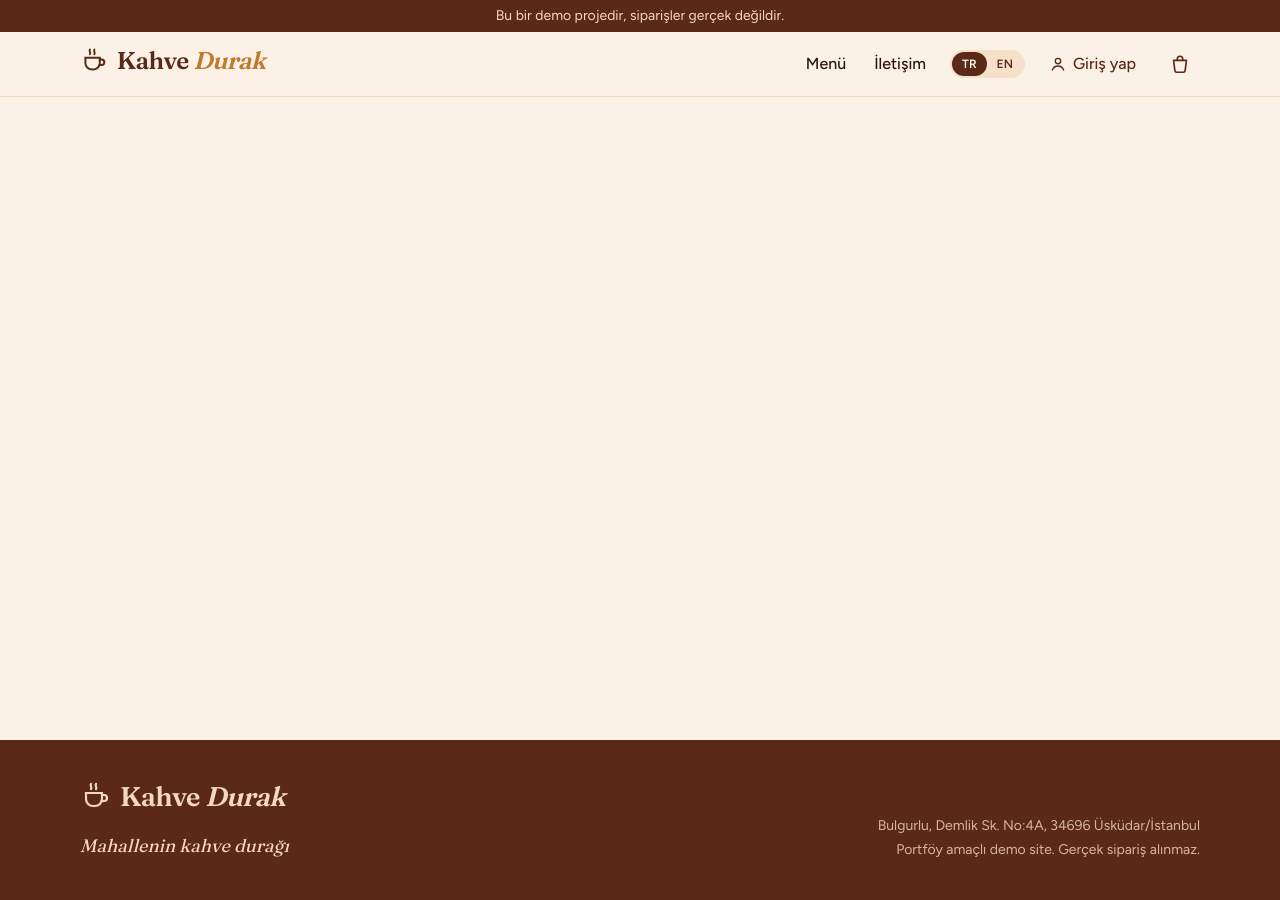
Test: Layout › switches language to English and remembers it
Click the button with aria-label "English" at (1005, 64), box [987, 52, 1023, 76]
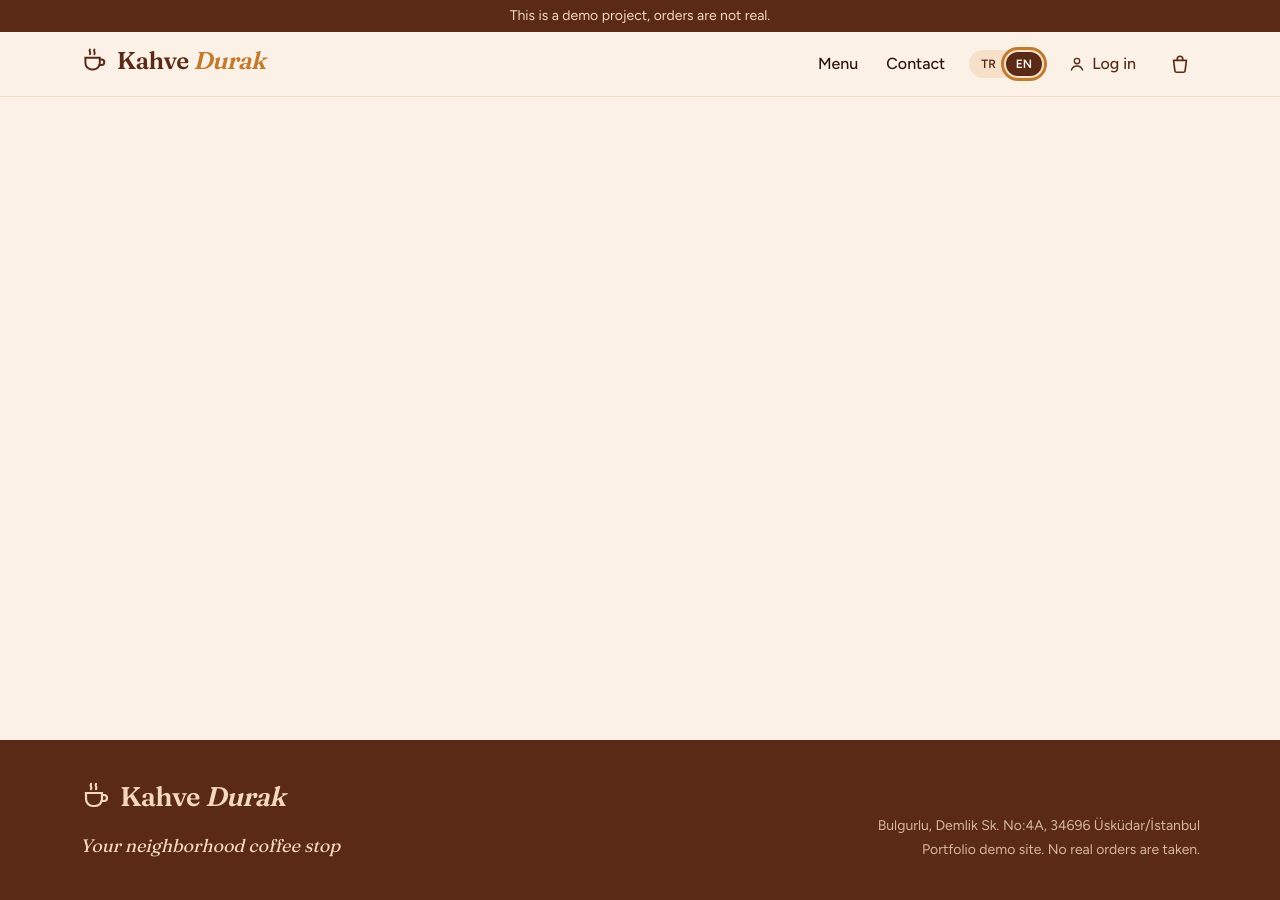
Expected: the text "This is a demo project, orders are not real." is shown, [0, 0, 1279, 32]
